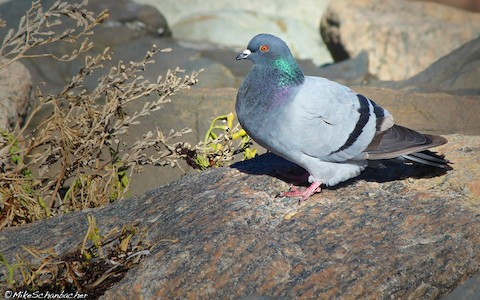pigeon: (230, 30, 459, 202)
